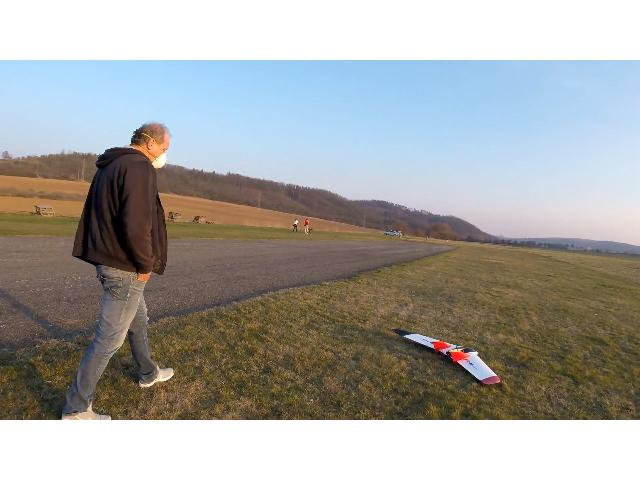Anti-Drone: (388, 314, 510, 400)
